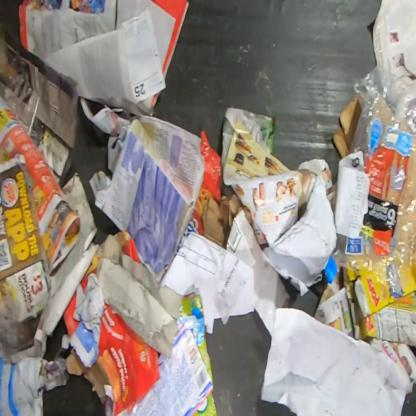cardboard: (65, 302, 161, 415), (342, 246, 415, 349), (190, 129, 222, 238), (332, 94, 362, 158), (62, 291, 81, 338), (80, 249, 100, 291), (116, 230, 140, 263)
soft_plastic: (331, 66, 416, 298)
